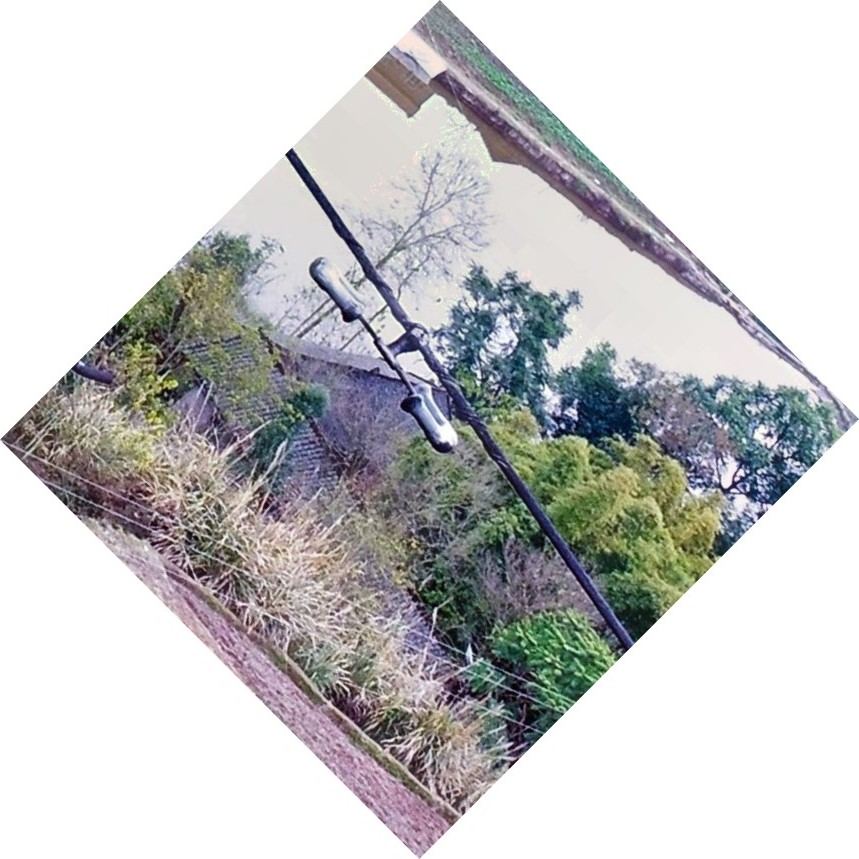Shockproof hammer: (303, 228, 469, 465)
